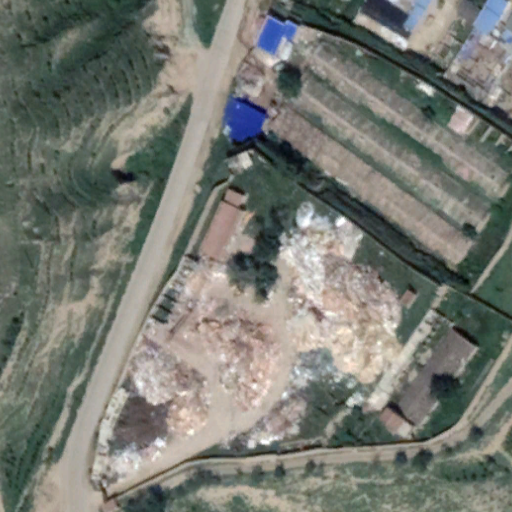msw: (101, 202, 401, 474)
